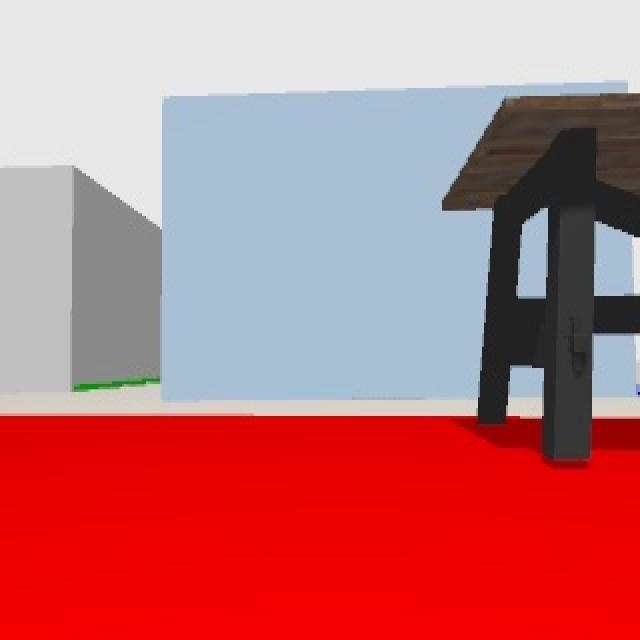dining: (435, 95, 640, 468)
